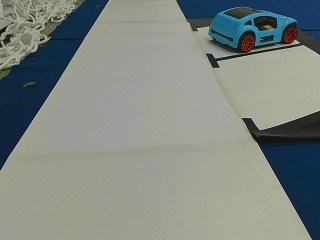car: (208, 7, 297, 50)
